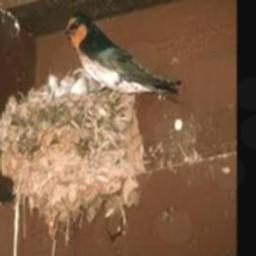Swallow: (65, 13, 181, 96)
